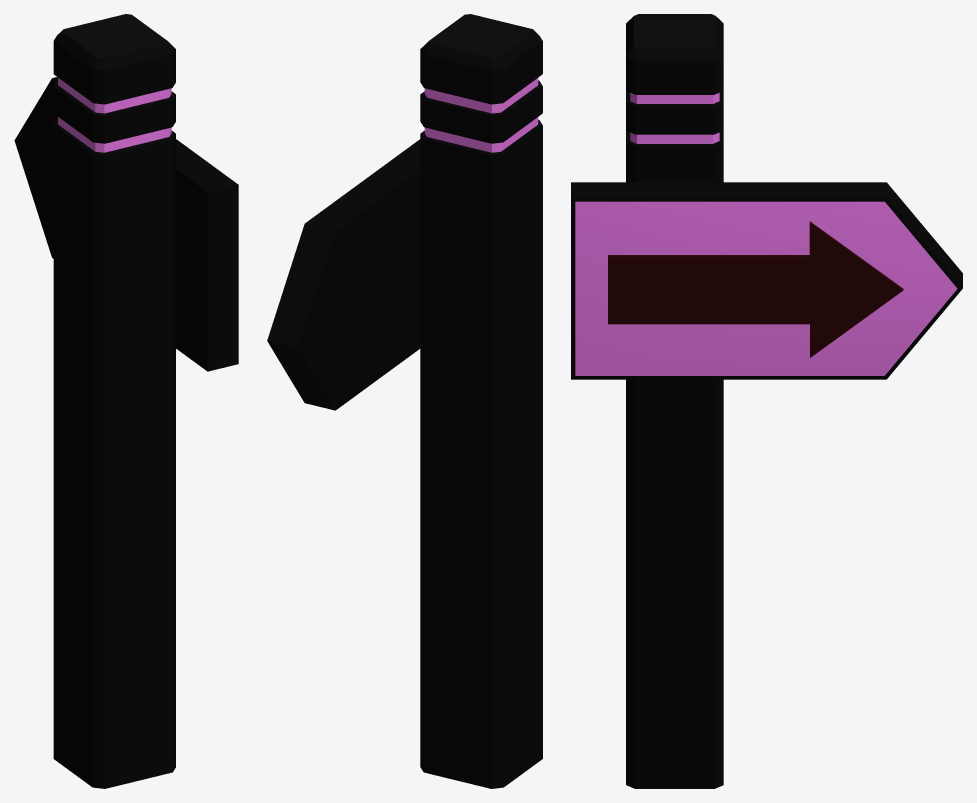
The model's file is W_O_Playground_Arrow_L0.fbx.
3 views of the same model, side by side, from view 1: azimuth 30°, elevation 25°; view 2: azimuth 150°, elevation 25°; view 3: azimuth 270°, elevation 25° (orthographic).
Visible parts, largest first — view 1: W_O_Playground_Arrow_L0; view 2: W_O_Playground_Arrow_L0; view 3: W_O_Playground_Arrow_L0.
Part boxes in pixels (<box>): W_O_Playground_Arrow_L0: <box>14,14,238,788</box>; W_O_Playground_Arrow_L0: <box>267,14,542,788</box>; W_O_Playground_Arrow_L0: <box>571,14,962,788</box>.
Size of the model in its own units: 0.326 by 1.92 by 0.9247.
